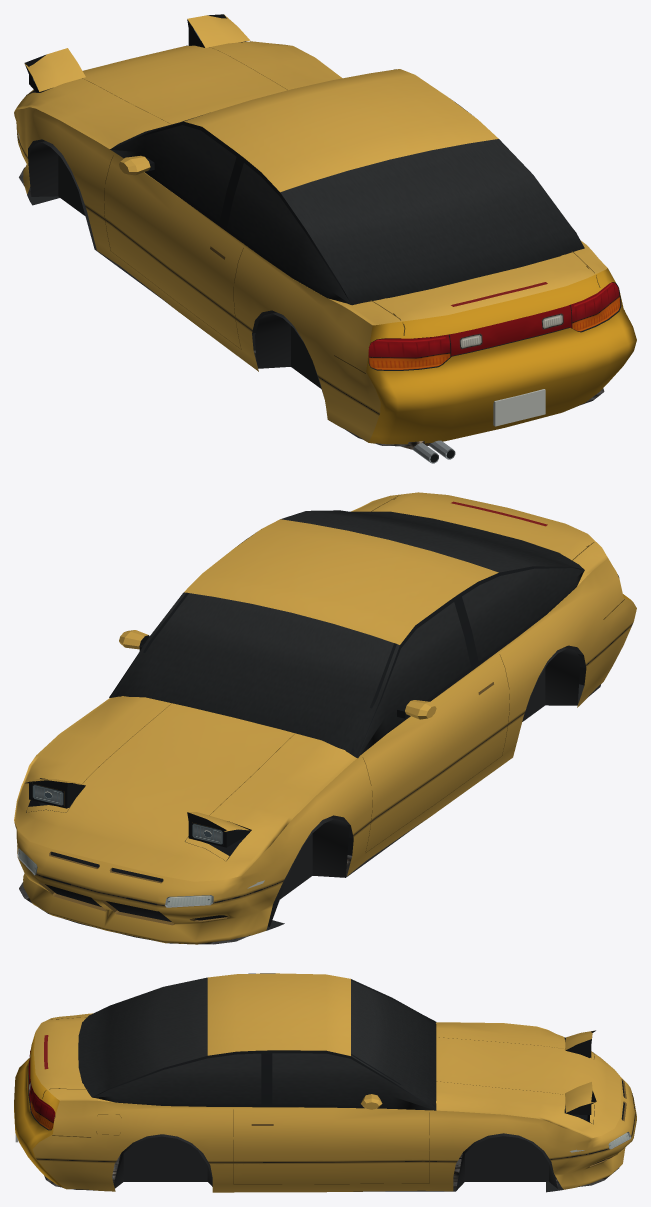
The model's file is nissan_180sx_lampsup.obj.
3 views of the same model, one above another, from view 1: azimuth 30°, elevation 25°; view 2: azimuth 150°, elevation 25°; view 3: azimuth 270°, elevation 25° (orthographic). The views are drawn at different scales.
Parts seen in each view (by area): view 1: nissan_180sx_lampsup; view 2: nissan_180sx_lampsup; view 3: nissan_180sx_lampsup.
Part boxes in pixels (x1,y1,x2,y2): nissan_180sx_lampsup: (14,14,636,463); nissan_180sx_lampsup: (14,492,636,944); nissan_180sx_lampsup: (14,973,636,1192).
Bounding box in the file's own units: 1.89 × 1.16 × 4.52.
1 material, 1 textured.
